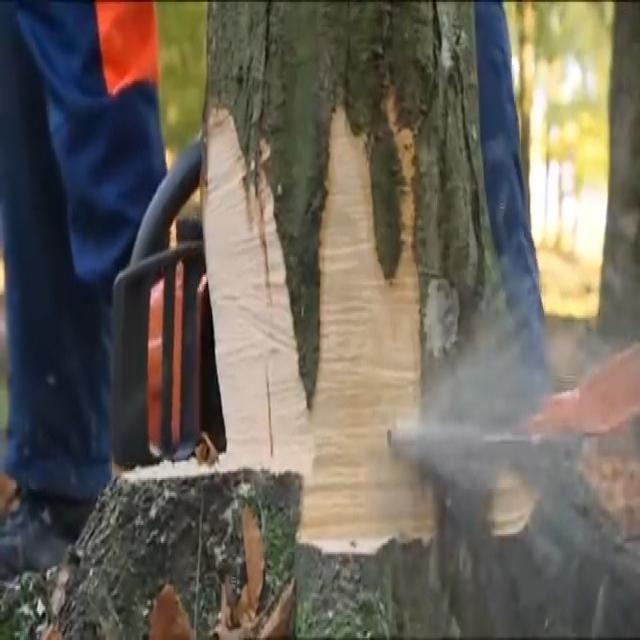Chainsaw: (106, 121, 618, 510)
